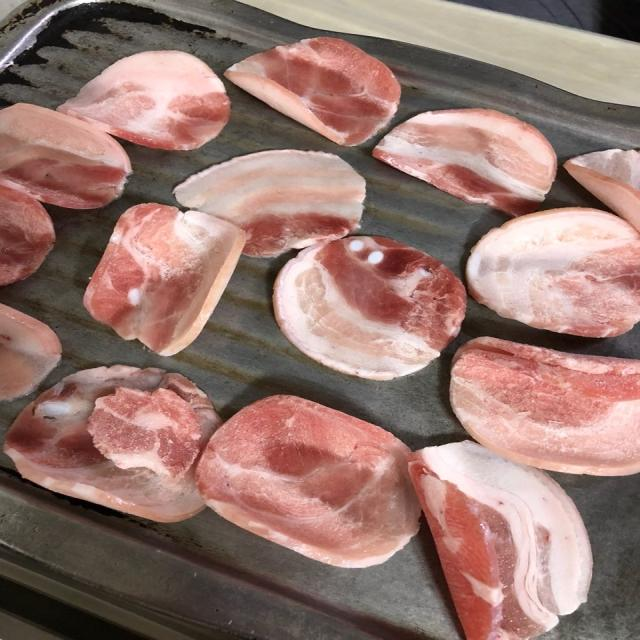beef: (245, 424, 382, 528), (497, 369, 621, 456)
